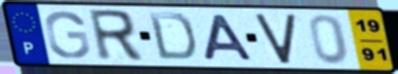0: (306, 13, 352, 67)
A: (202, 13, 257, 63)
D: (146, 11, 198, 63)
G: (42, 10, 93, 60)
R: (85, 8, 146, 64)
V: (252, 12, 298, 66)
